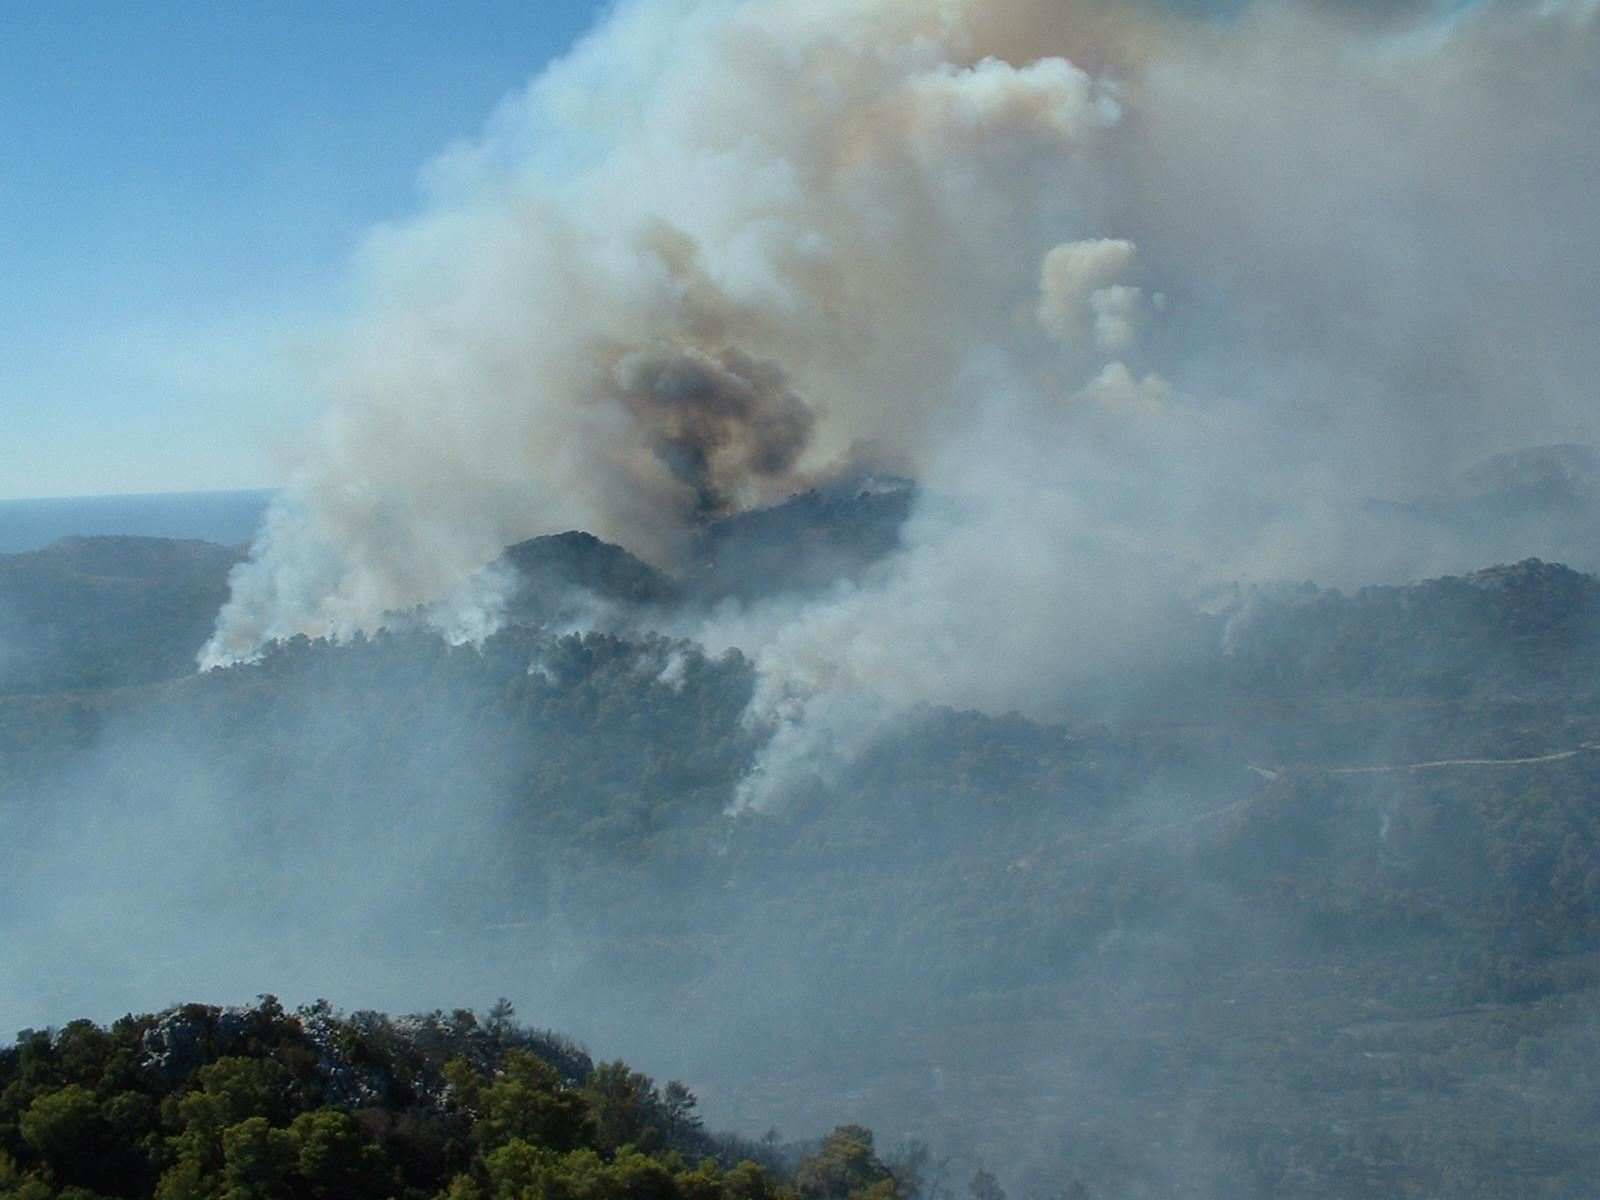Smoke: (199, 5, 1325, 816)
